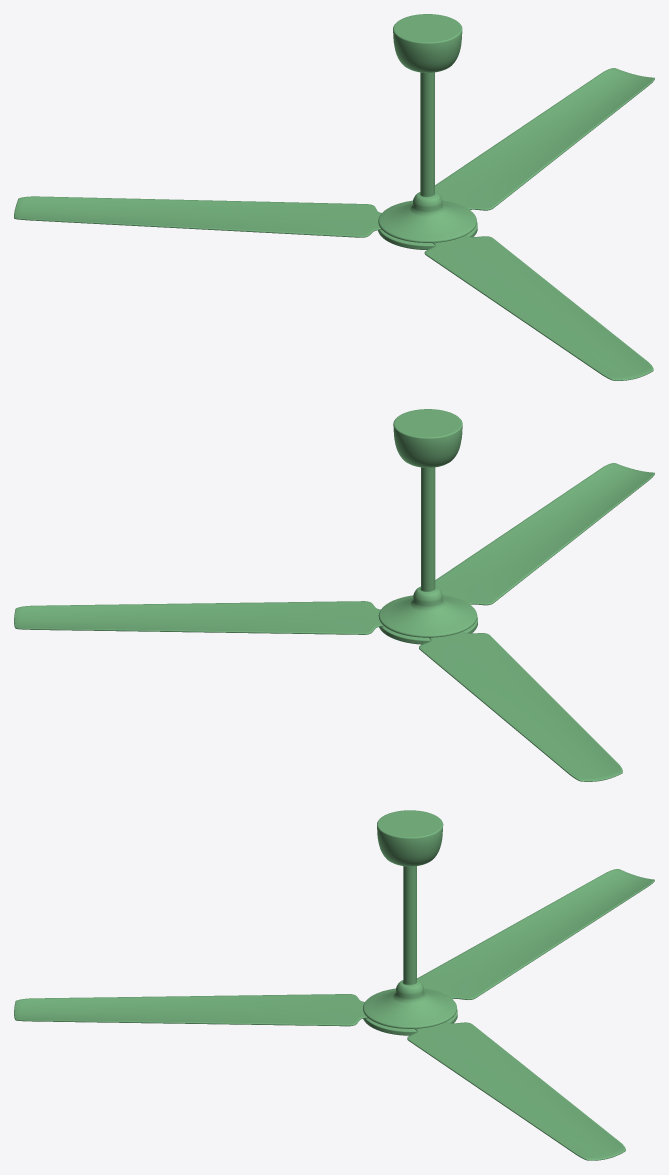
The picture shows the model from 3 angles, top to bottom: view 1: azimuth 30°, elevation 25°; view 2: azimuth 150°, elevation 25°; view 3: azimuth 270°, elevation 25°; orthographic projection. The views are drawn at different scales.
Parts seen in each view (by area): view 1: arch20_101_02, arch20_101_01, arch20_101_03, arch20_101_00; view 2: arch20_101_03, arch20_101_02, arch20_101_01, arch20_101_00; view 3: arch20_101_01, arch20_101_03, arch20_101_02, arch20_101_00.
Boxes of the visible parts, left/top/right/bottom form: arch20_101_02: left=14, top=196, right=381, bottom=237; arch20_101_01: left=424, top=235, right=653, bottom=380; arch20_101_03: left=435, top=68, right=654, bottom=210; arch20_101_00: left=378, top=14, right=477, bottom=249; arch20_101_03: left=14, top=601, right=383, bottom=634; arch20_101_02: left=419, top=631, right=622, bottom=781; arch20_101_01: left=435, top=463, right=654, bottom=605; arch20_101_00: left=378, top=409, right=477, bottom=644; arch20_101_01: left=14, top=994, right=367, bottom=1026; arch20_101_03: left=407, top=1021, right=625, bottom=1160; arch20_101_02: left=417, top=869, right=654, bottom=999; arch20_101_00: left=363, top=810, right=457, bottom=1035.
Size of the model in its own units: 2319 by 737 by 2160.
